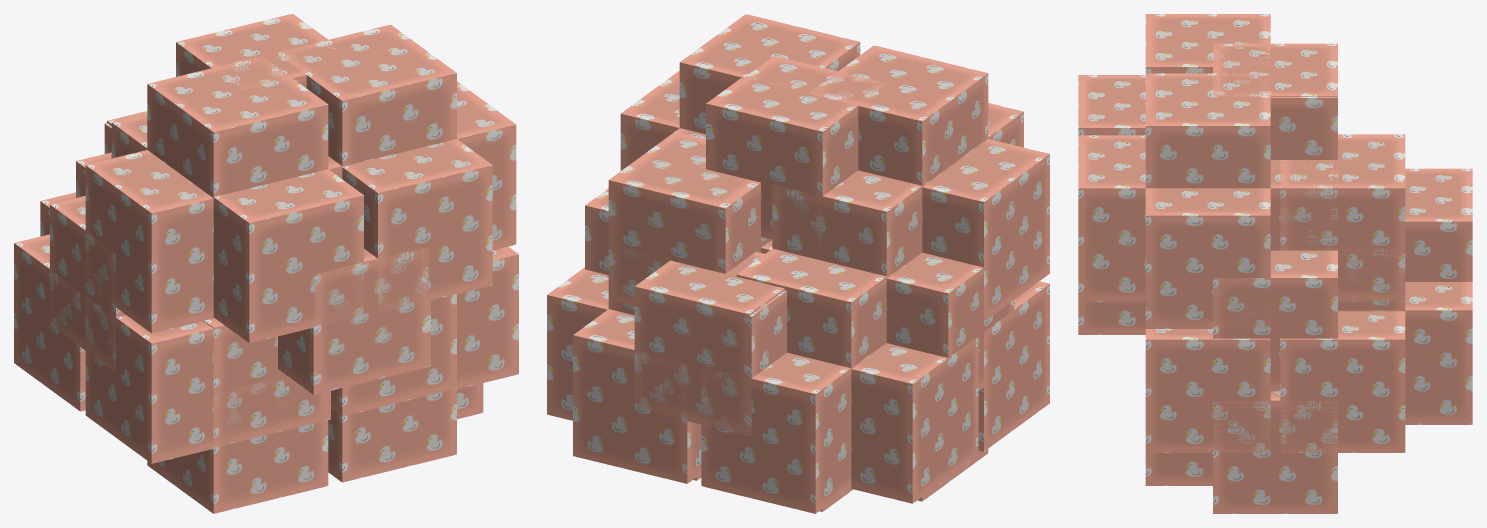
3 views of the same model, side by side, from view 1: azimuth 30°, elevation 25°; view 2: azimuth 150°, elevation 25°; view 3: azimuth 270°, elevation 25° (orthographic). The views are drawn at different scales.
Parts seen in each view (by area): view 1: Cube_pink8, Cube_pink4, Cube_pink5, Cube_pink3, Cube_pink2, Cube_pink6, Cube_pink1, Cube_pink7; view 2: Cube_pink8, Cube_pink4, Cube_pink2, Cube_pink6, Cube_pink3, Cube_pink5, Cube_pink1, Cube_pink7; view 3: Cube_pink8, Cube_pink3, Cube_pink4, Cube_pink2, Cube_pink6, Cube_pink1, Cube_pink5, Cube_pink7.
Part boxes in pixels (<box>): Cube_pink8: <box>14,81,518,463</box>; Cube_pink4: <box>76,24,456,513</box>; Cube_pink5: <box>111,114,363,343</box>; Cube_pink3: <box>50,14,483,419</box>; Cube_pink2: <box>40,124,492,312</box>; Cube_pink6: <box>104,14,428,394</box>; Cube_pink1: <box>203,294,456,447</box>; Cube_pink7: <box>216,325,330,443</box>; Cube_pink8: <box>547,71,1049,503</box>; Cube_pink4: <box>608,14,988,501</box>; Cube_pink2: <box>573,128,922,513</box>; Cube_pink6: <box>585,55,944,511</box>; Cube_pink3: <box>634,78,1014,480</box>; Cube_pink5: <box>573,103,1023,483</box>; Cube_pink1: <box>608,132,886,368</box>; Cube_pink7: <box>611,156,771,305</box>; Cube_pink8: <box>1145,188,1405,452</box>; Cube_pink3: <box>1078,97,1472,513</box>; Cube_pink4: <box>1145,14,1405,485</box>; Cube_pink2: <box>1078,135,1472,423</box>; Cube_pink6: <box>1213,43,1337,391</box>; Cube_pink1: <box>1280,135,1405,311</box>; Cube_pink5: <box>1078,75,1472,424</box>; Cube_pink7: <box>1280,134,1405,187</box>.
Size of the model in its own units: 74.2 by 73.7 by 73.2.
1 material, 1 textured.
